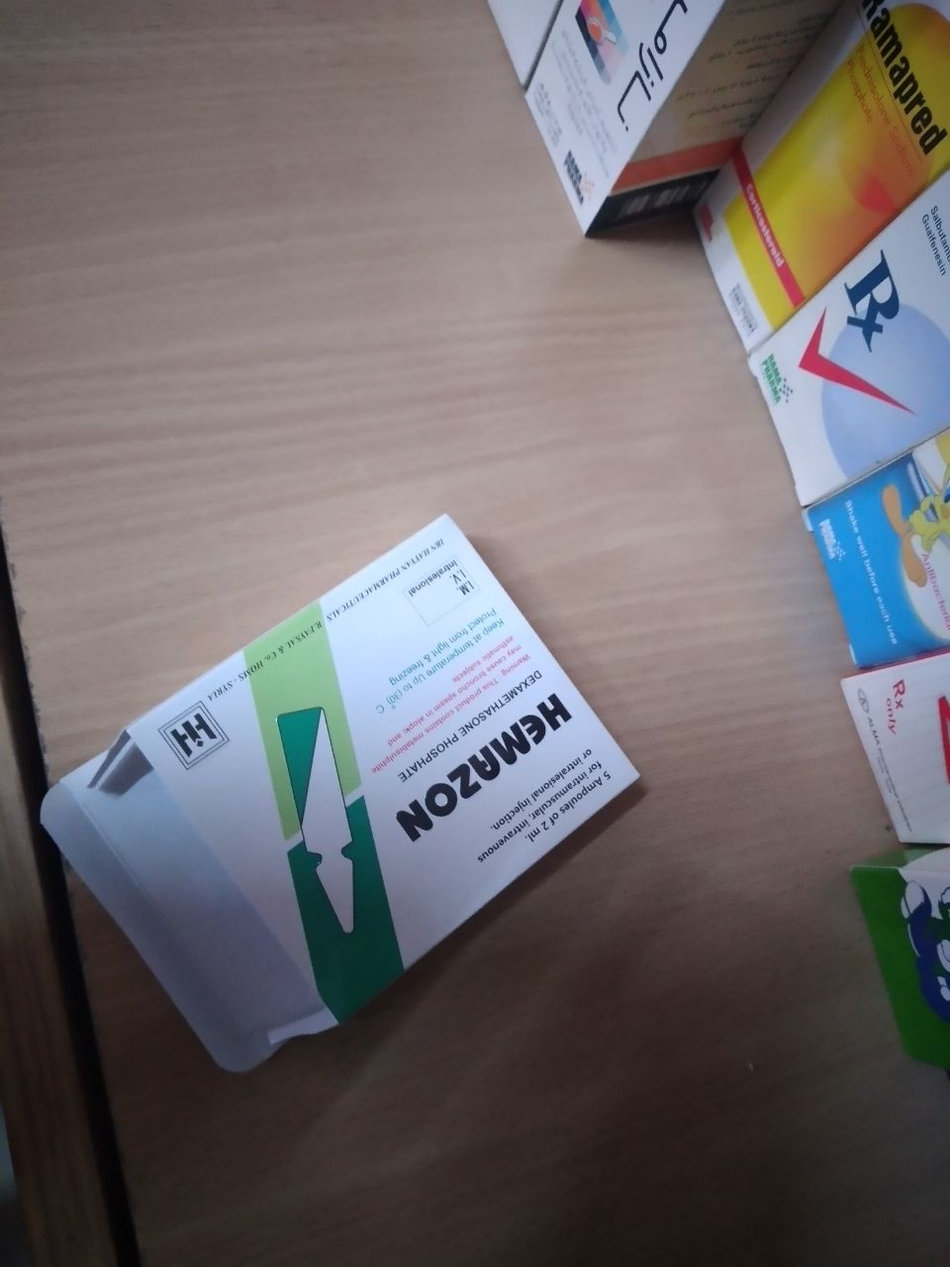Medicine: (115, 511, 676, 1039)
